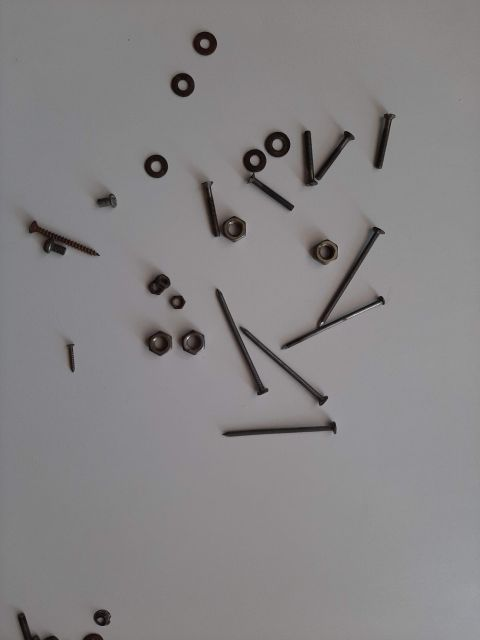gwozdz: (305, 215, 385, 325), (235, 305, 325, 395), (205, 275, 265, 395), (275, 275, 385, 335), (215, 395, 335, 445)
nakretka: (125, 305, 175, 355), (295, 215, 335, 265), (175, 305, 215, 355), (215, 205, 245, 245)
podkladka: (215, 125, 275, 185), (125, 125, 175, 185), (155, 45, 205, 95), (245, 105, 295, 155), (175, 5, 215, 45)
sruba: (355, 95, 415, 175), (185, 155, 235, 245), (235, 155, 305, 215), (305, 105, 355, 185), (275, 105, 325, 185), (75, 175, 125, 215)
